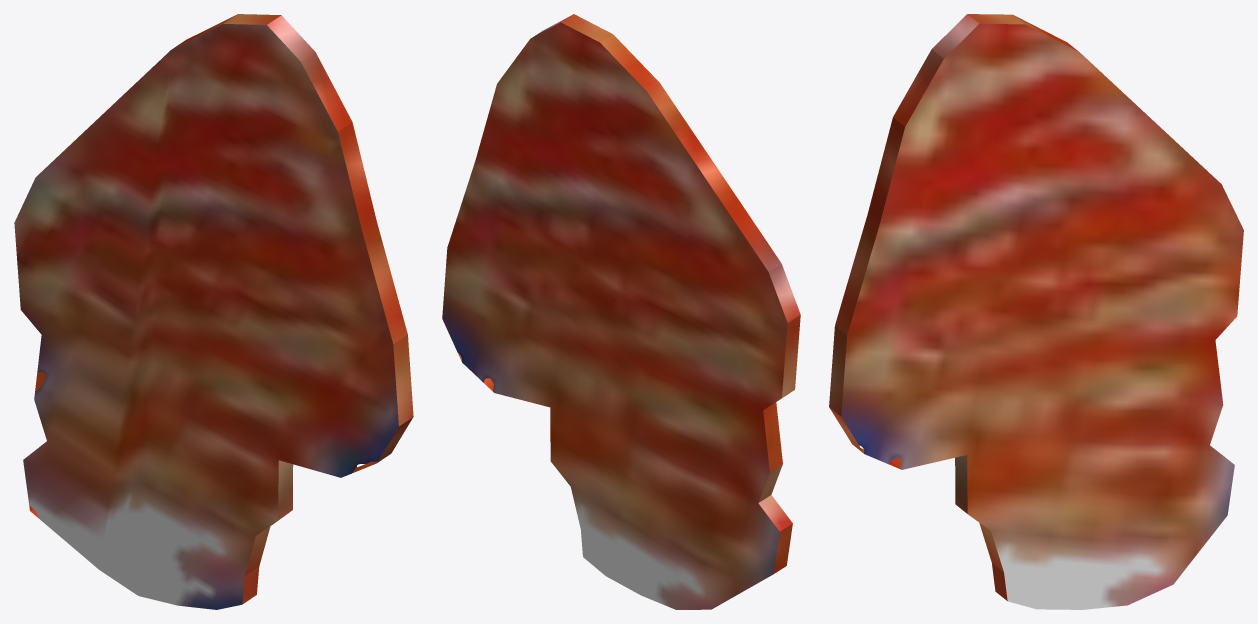
Rendered from Balao1.fbx.
The picture shows the model from 3 angles, left to right: view 1: azimuth 30°, elevation 25°; view 2: azimuth 210°, elevation 25°; view 3: azimuth 270°, elevation 25°; orthographic projection. The views are drawn at different scales.
Visible parts, largest first — view 1: Circle.005; view 2: Circle.005; view 3: Circle.005.
Boxes of the visible parts, <box> form: Circle.005: <box>14,14,413,609</box>; Circle.005: <box>442,14,800,609</box>; Circle.005: <box>829,14,1243,609</box>.
Bounding box in the file's own units: 34.98 × 101 × 62.65.
1 material, 1 textured.
